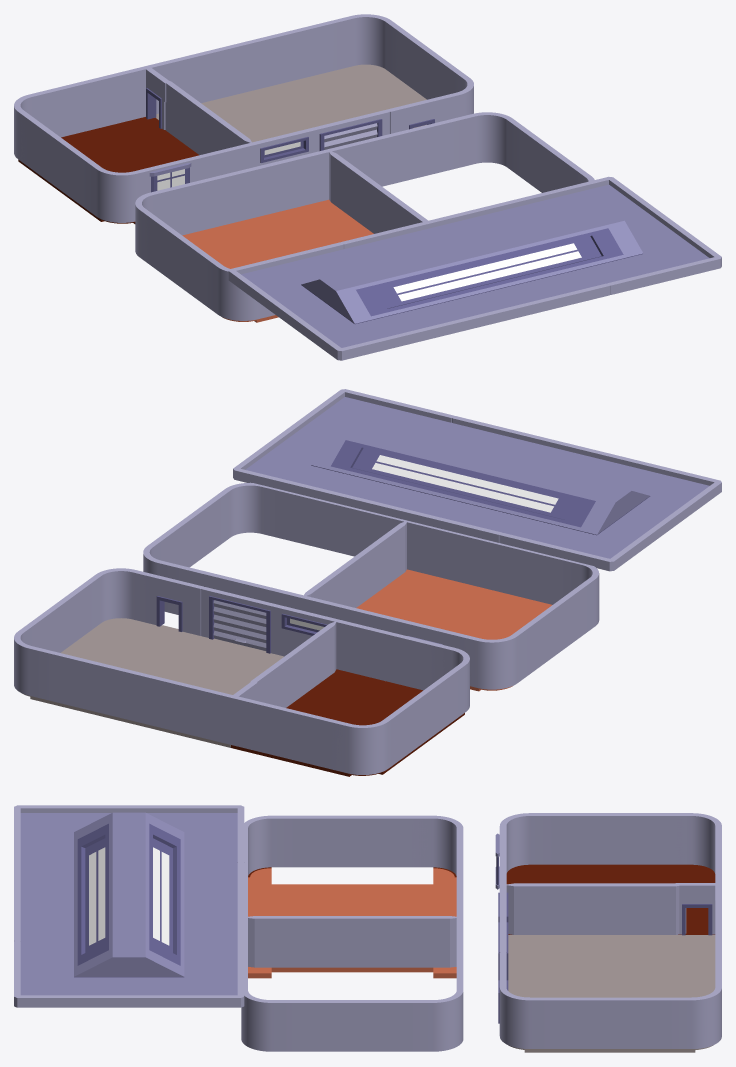
Rendered from House1.fbx.
3 renders of one model, top to bottom at view 1: azimuth 30°, elevation 25°; view 2: azimuth 150°, elevation 25°; view 3: azimuth 270°, elevation 25°, orthographic. The views are drawn at different scales.
Visible parts, largest first — view 1: wall (×12), roof_flatSide (×8), porch_floorCenter (×5), wall_cornerBevel (×7), roof_windowGlassLarge, roof_flatCorner (×4), doorway_wideGarageRoll, window_garage, wall_glassSections, doorway_wide; view 2: wall (×14), roof_flatSide (×8), porch_floorCenter (×5), wall_cornerBevel (×8), roof_windowGlassLarge, roof_flatCorner (×4), doorway_wideGarageRoll, window_garage; view 3: wall (×13), porch_floorCenter (×7), roof_flatSide (×8), wall_cornerBevel (×8), roof_windowGlassLarge, roof_flatCorner (×4), doorway_wide, doorway_wideGarageRoll.
Part boxes in pixels (box(x1,y1,x2,y2)): wall (×12): box(19, 20, 577, 306); roof_flatSide (×8): box(255, 187, 700, 349); porch_floorCenter (×5): box(61, 66, 426, 268); wall_cornerBevel (×7): box(14, 14, 525, 320); roof_windowGlassLarge: box(301, 209, 643, 324); roof_flatCorner (×4): box(228, 176, 721, 360); doorway_wideGarageRoll: box(306, 109, 391, 152); window_garage: box(249, 128, 314, 166); wall_glassSections: box(149, 163, 191, 192); doorway_wide: box(146, 84, 165, 129); wall (×14): box(27, 485, 585, 769); roof_flatSide (×8): box(259, 399, 700, 559); porch_floorCenter (×5): box(30, 569, 551, 776); wall_cornerBevel (×8): box(14, 482, 599, 774); roof_windowGlassLarge: box(311, 421, 650, 535); roof_flatCorner (×4): box(233, 389, 721, 571); doorway_wideGarageRoll: box(200, 587, 283, 654); window_garage: box(275, 605, 340, 656); wall (×13): box(244, 813, 721, 1051); porch_floorCenter (×7): box(248, 864, 715, 1052); roof_flatSide (×8): box(14, 805, 244, 1007); wall_cornerBevel (×8): box(241, 813, 721, 1051); roof_windowGlassLarge: box(74, 812, 184, 977); roof_flatCorner (×4): box(14, 805, 244, 1007); doorway_wide: box(679, 900, 715, 935); doorway_wideGarageRoll: box(498, 911, 508, 980).
Size of the model in its own units: 84.65 by 15.8 by 131.
